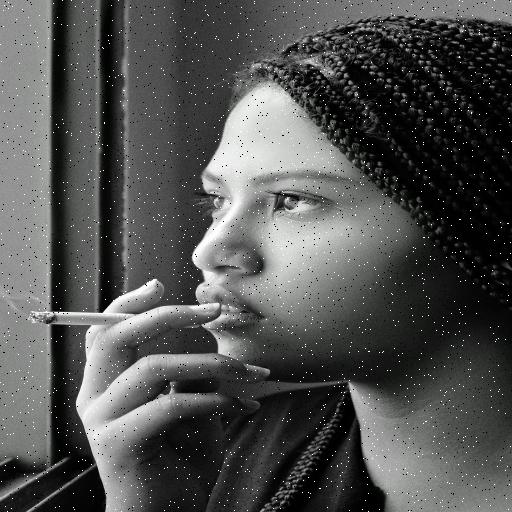pegang rokok: (24, 248, 201, 432)
